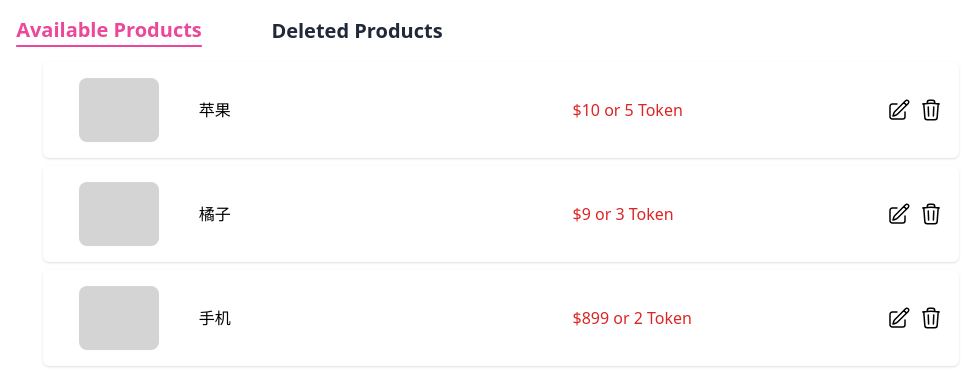
Test: Product Management › should show list of deleted products
The width and height of the screenshot is (976, 384).
Click the tab "Deleted Products" at (357, 31), box [253,16,461,46]
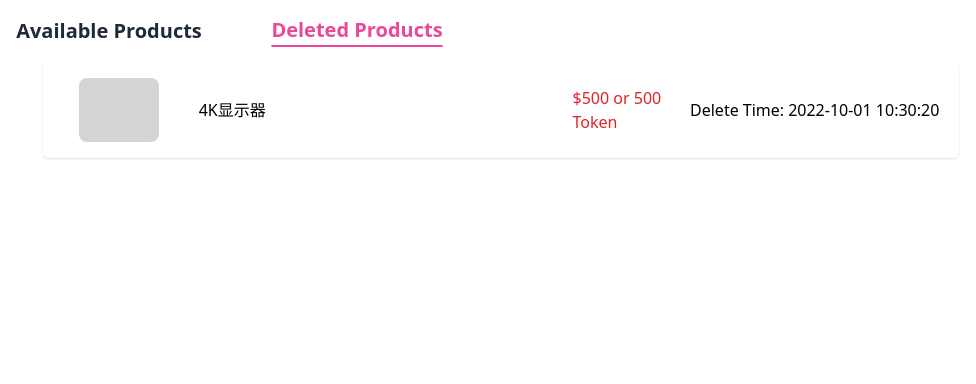
Result: no list items with class "available" are shown
